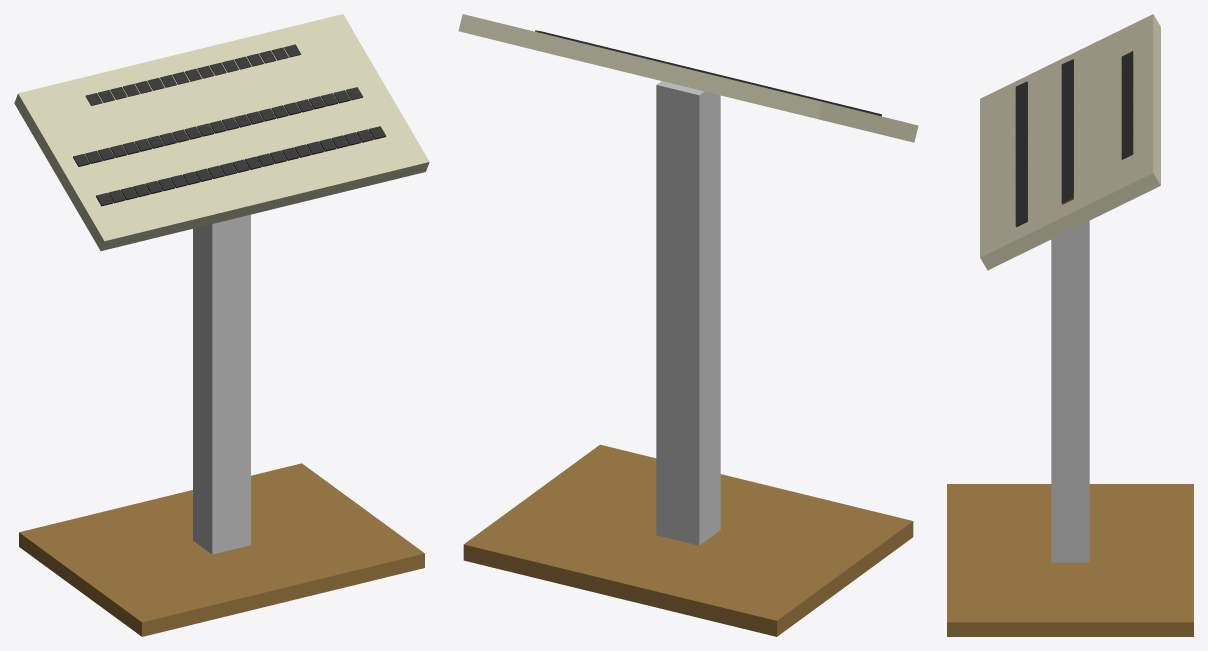
Rendered from Atril 2.fbx.
3 views of the same model, side by side, from view 1: azimuth 30°, elevation 25°; view 2: azimuth 150°, elevation 25°; view 3: azimuth 270°, elevation 25° (orthographic). The views are drawn at different scales.
Parts seen in each view (by area): view 1: atril 2; view 2: atril 2; view 3: atril 2.
Boxes of the visible parts, x1,y1,x2,y2 form: atril 2: (14,14,429,636); atril 2: (458,14,918,636); atril 2: (947,14,1193,636).
Size of the model in its own units: 230 by 320 by 151.
